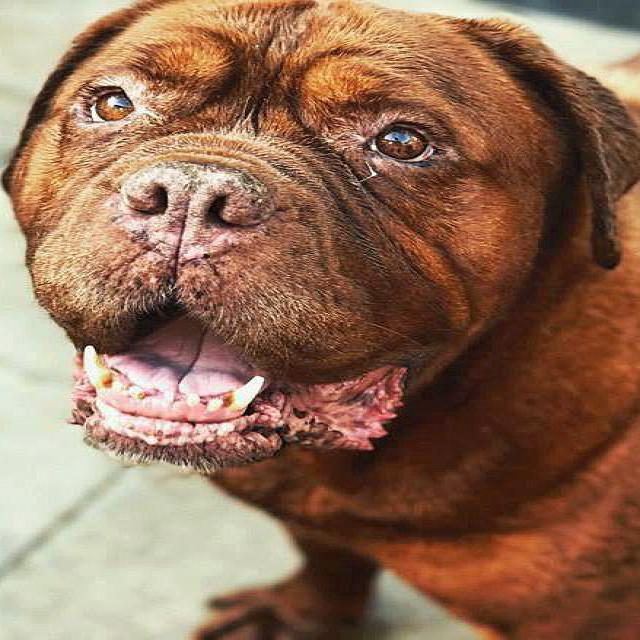eye: (366, 118, 449, 166), (80, 84, 142, 126)
